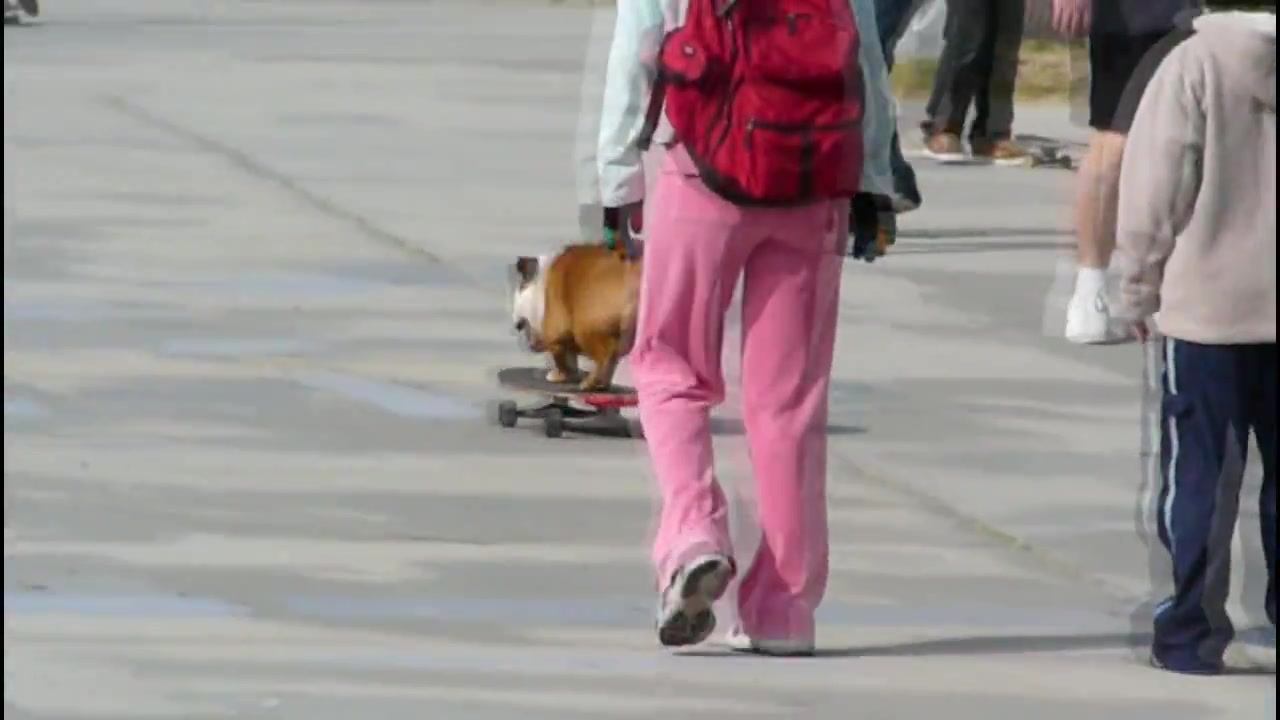dog: (510, 232, 641, 388)
